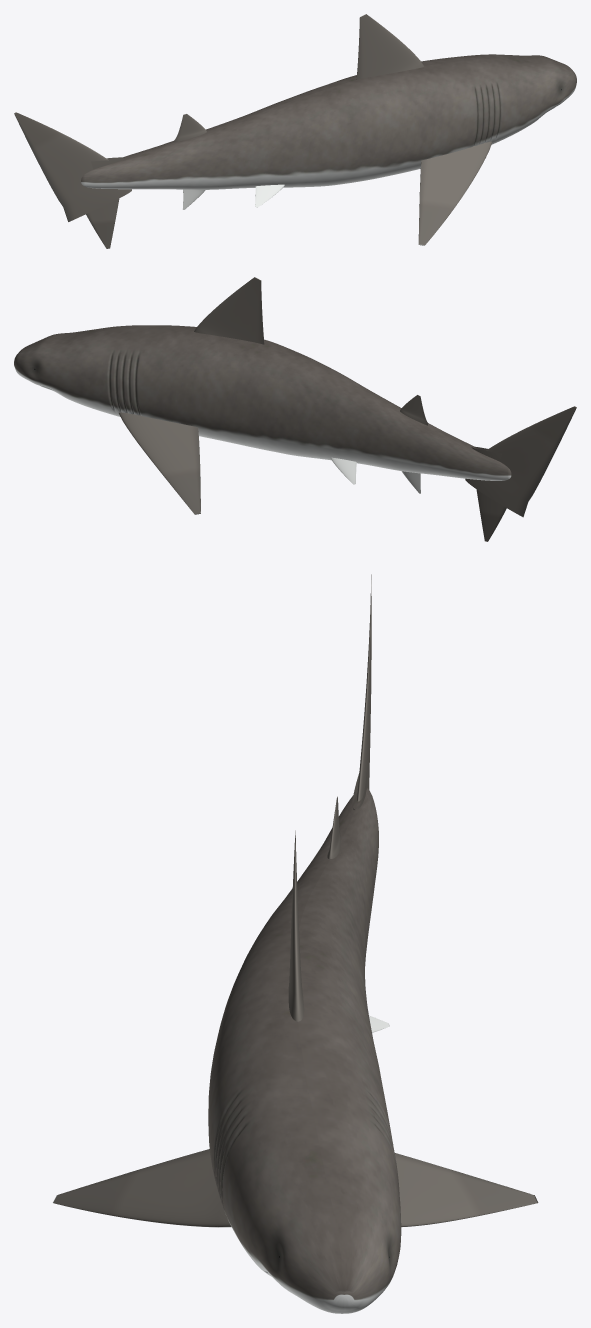
The model's file is sandbar_shark.glb.
3 renders of one model, top to bottom at view 1: azimuth 30°, elevation 25°; view 2: azimuth 150°, elevation 25°; view 3: azimuth 270°, elevation 25°, orthographic. The views are drawn at different scales.
Parts seen in each view (by area): view 1: sandbar_shark_Body, sandbar_shark_Fins; view 2: sandbar_shark_Body, sandbar_shark_Fins; view 3: sandbar_shark_Body, sandbar_shark_Fins.
Part boxes in pixels (<box>): sandbar_shark_Body: <box>81,54,576,189</box>; sandbar_shark_Fins: <box>14,14,492,248</box>; sandbar_shark_Body: <box>14,325,511,480</box>; sandbar_shark_Fins: <box>118,277,576,541</box>; sandbar_shark_Body: <box>208,788,401,1313</box>; sandbar_shark_Fins: <box>52,574,538,1227</box>.
Bounding box in the file's own units: 2 × 0.6473 × 0.7598.
3 materials, 1 textured.
